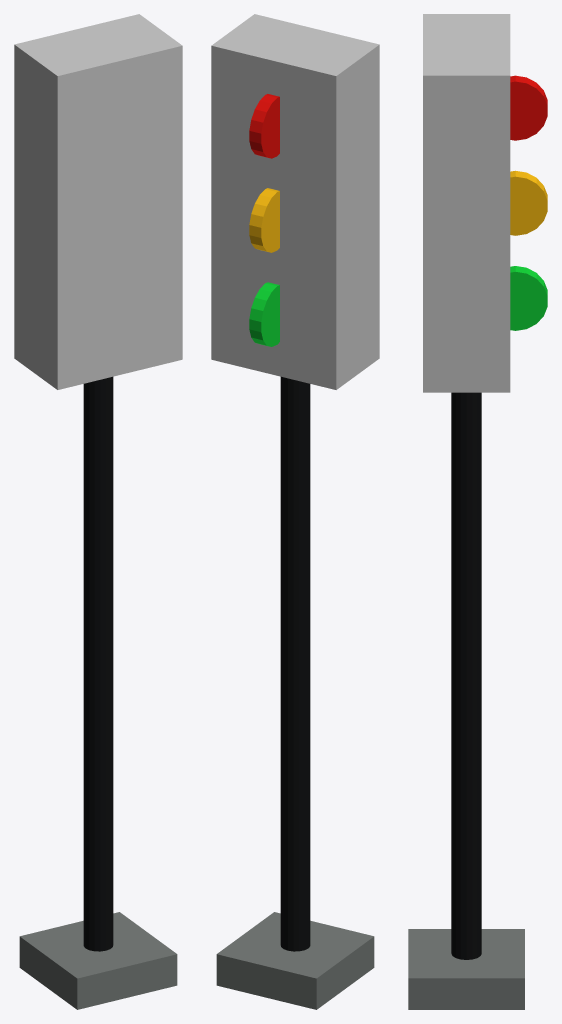
File: traffic_light.obj
3 renders of one model, left to right at view 1: azimuth 30°, elevation 25°; view 2: azimuth 150°, elevation 25°; view 3: azimuth 270°, elevation 25°, orthographic.
Parts seen in each view (by area): view 1: traffic_light; view 2: traffic_light; view 3: traffic_light.
Boxes of the visible parts, x1=… form: traffic_light: x1=14, y1=14, x2=182, y2=1009; traffic_light: x1=211, y1=14, x2=379, y2=1009; traffic_light: x1=408, y1=14, x2=547, y2=1009.
Size of the model in its own units: 1.25 by 8.9 by 1.2.
